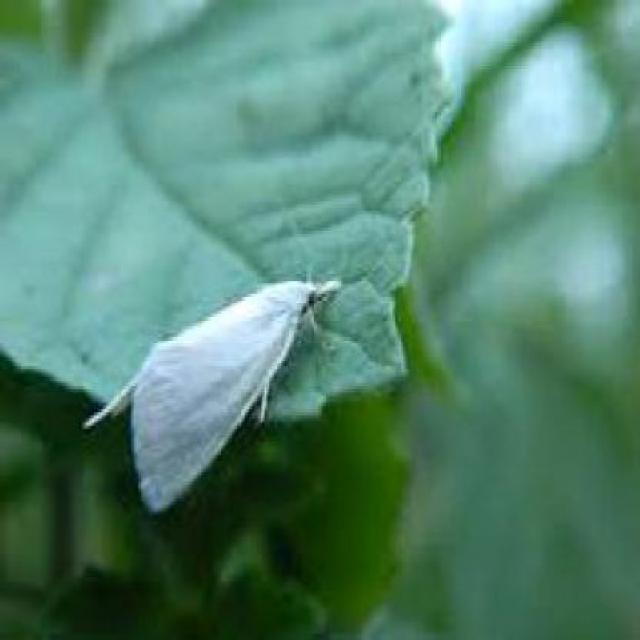stem-borer: (78, 266, 344, 517)
